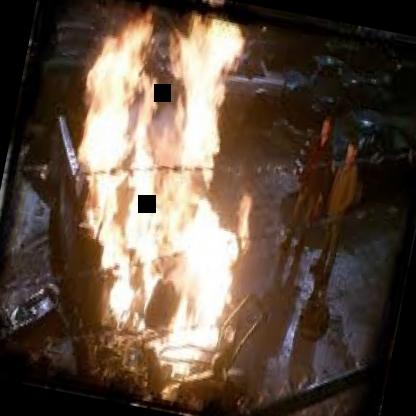fire: (22, 0, 294, 387)
